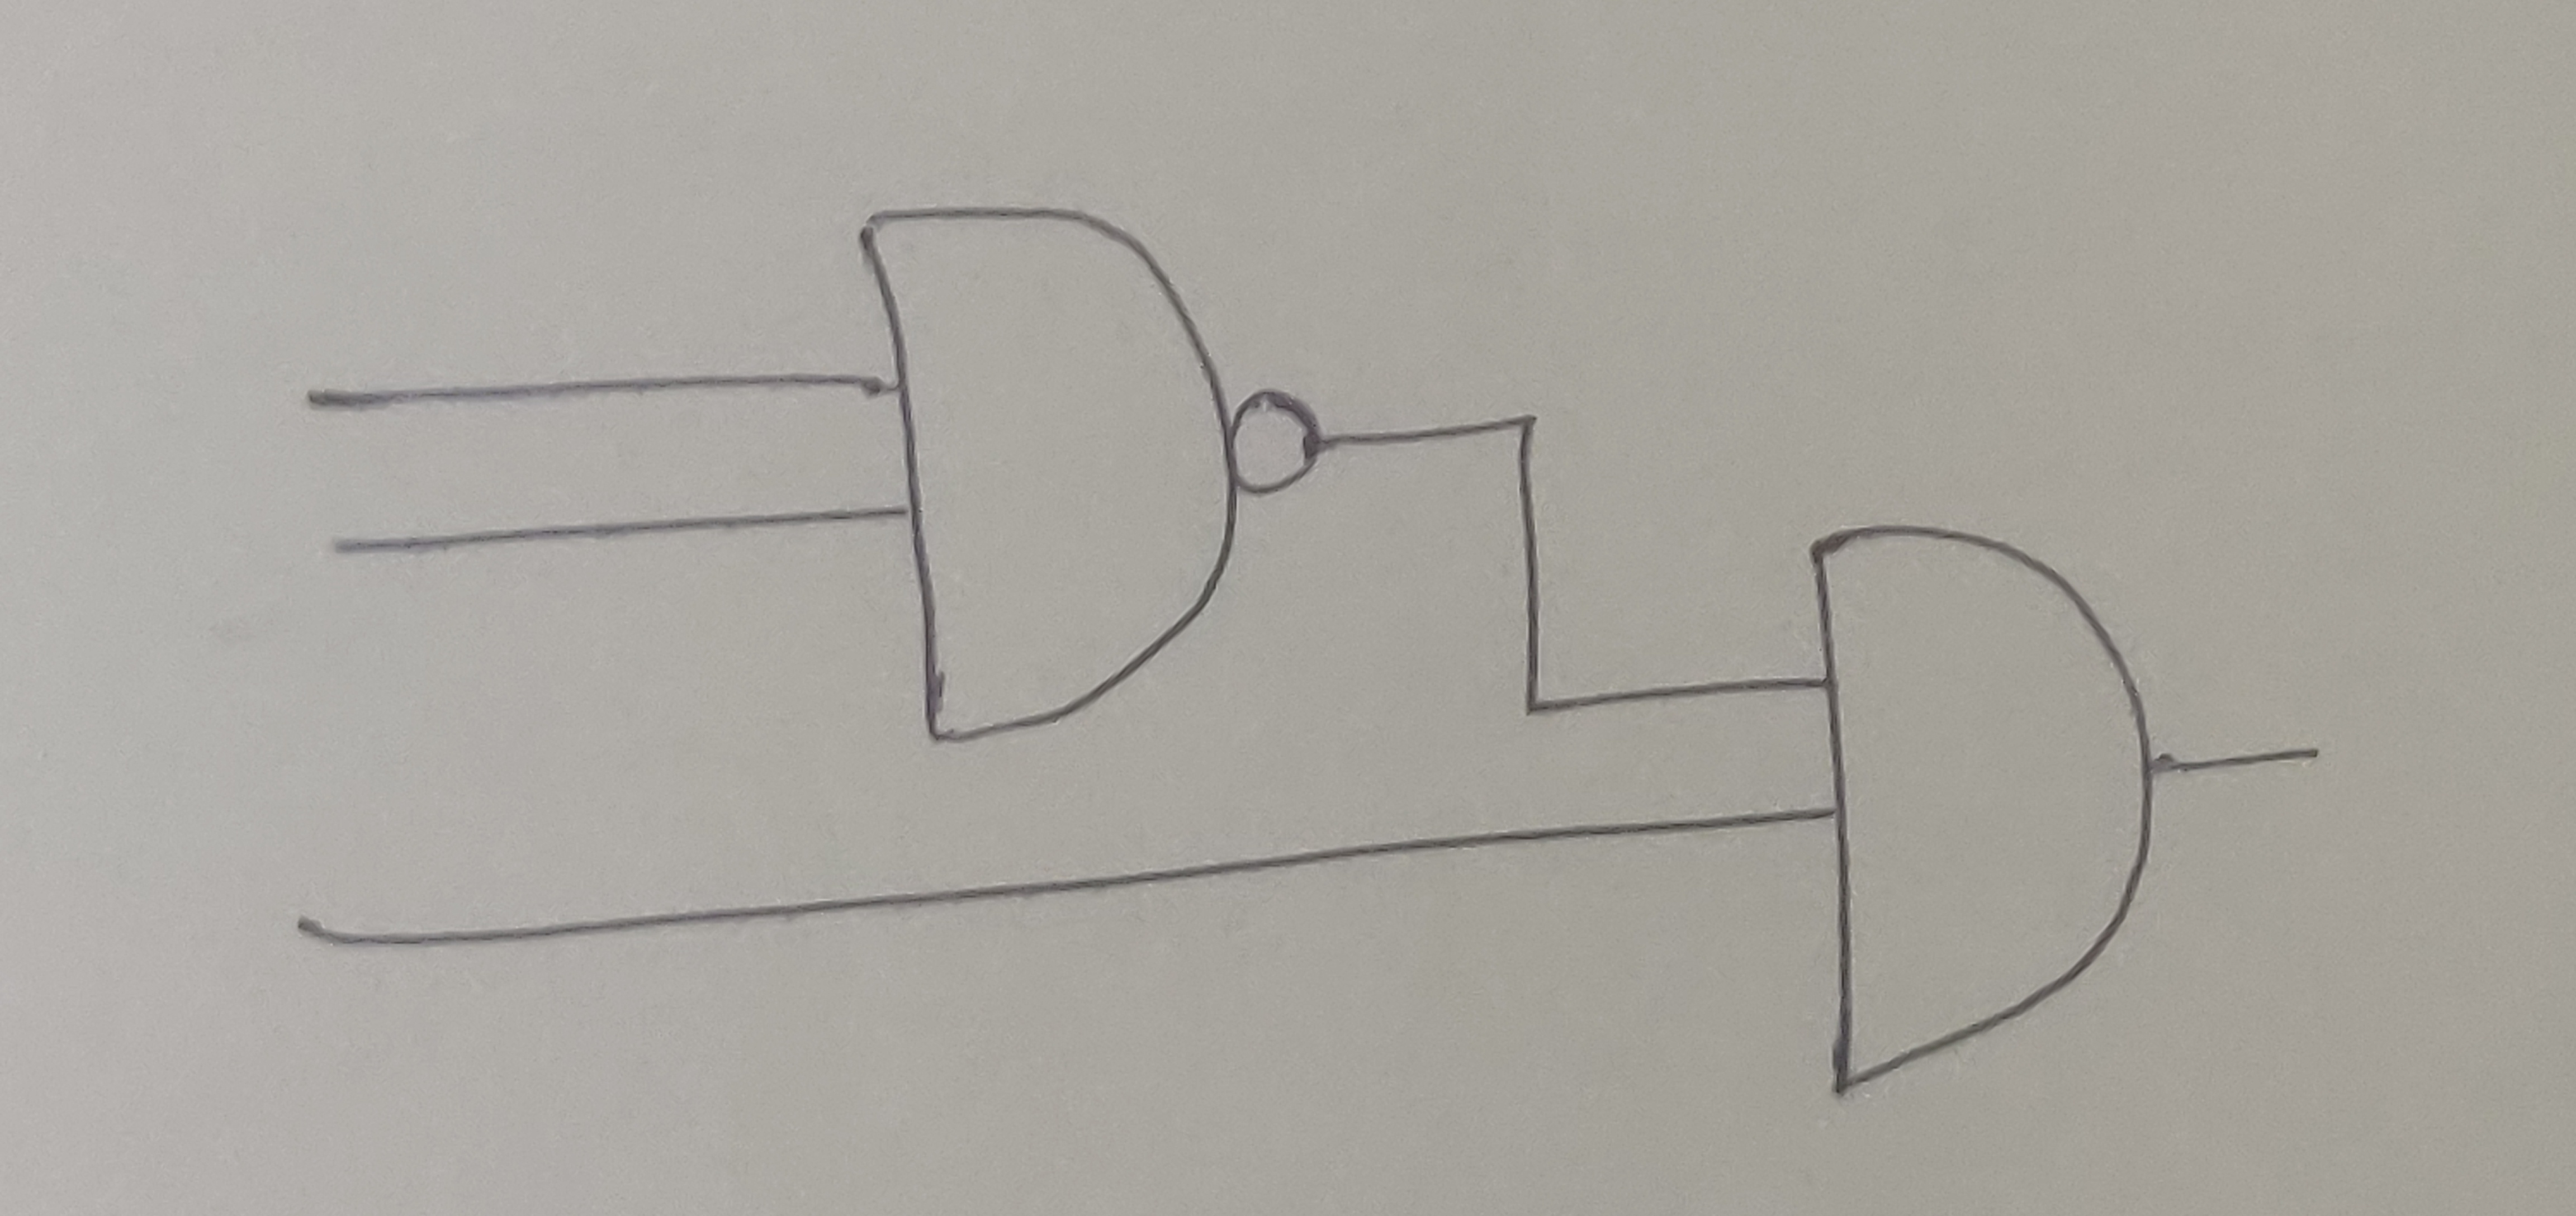and: (854, 197, 1239, 749), (1804, 523, 2155, 1091)
not: (1229, 388, 1324, 500)
